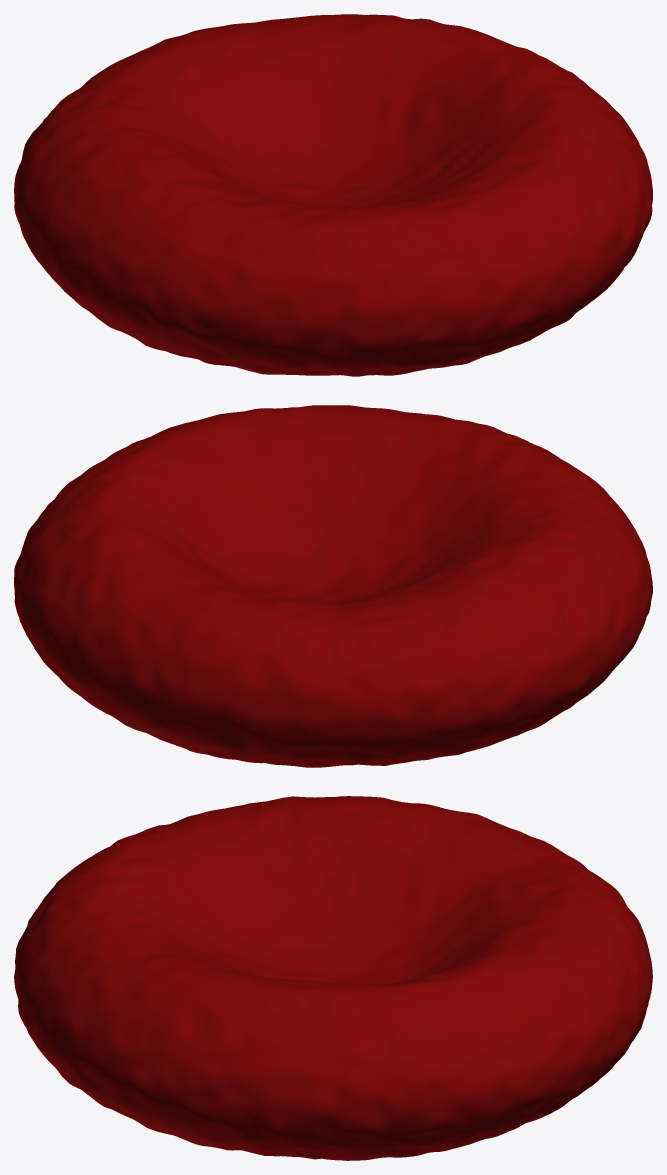
The model's file is rbc.dae.
The picture shows the model from 3 angles, top to bottom: view 1: azimuth 30°, elevation 25°; view 2: azimuth 150°, elevation 25°; view 3: azimuth 270°, elevation 25°; orthographic projection.
Parts seen in each view (by area): view 1: rbc; view 2: rbc; view 3: rbc.
Part boxes in pixels (box(x1,y1,x2,y2)): rbc: box(14, 14, 652, 376); rbc: box(14, 405, 652, 767); rbc: box(14, 796, 652, 1160).
Bounding box in the file's own units: 6896 × 2027 × 6876.
